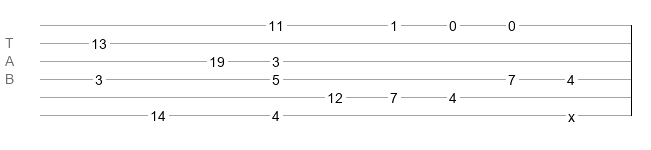0: (449, 18, 457, 28), (508, 18, 516, 28)
1: (390, 18, 398, 28)
11: (268, 18, 284, 28)
12: (327, 90, 343, 100)
13: (91, 36, 107, 46)
14: (150, 108, 166, 118)
19: (209, 54, 225, 64)
3: (95, 72, 103, 82), (272, 54, 280, 64)
4: (272, 108, 280, 118), (449, 90, 457, 100), (567, 72, 575, 82)
5: (272, 72, 280, 82)
7: (390, 90, 398, 100), (508, 72, 516, 82)
x: (568, 109, 575, 117)
